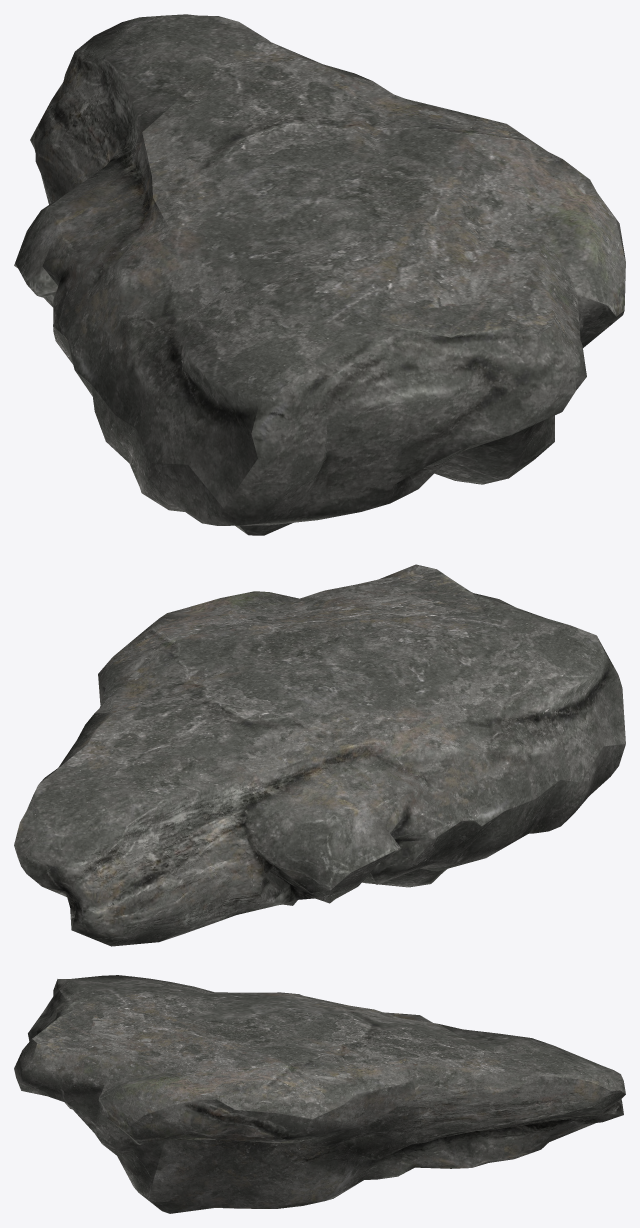
3 renders of one model, top to bottom at view 1: azimuth 30°, elevation 25°; view 2: azimuth 150°, elevation 25°; view 3: azimuth 270°, elevation 25°, orthographic. The views are drawn at different scales.
Parts seen in each view (by area): view 1: Object_2; view 2: Object_2; view 3: Object_2.
Boxes of the visible parts, <box> form: Object_2: <box>14,14,625,535</box>; Object_2: <box>14,564,625,946</box>; Object_2: <box>14,975,625,1213</box>.
Bounding box in the file's own units: 110 × 55.04 × 184.
Materials: 1 (1 with a texture image).
